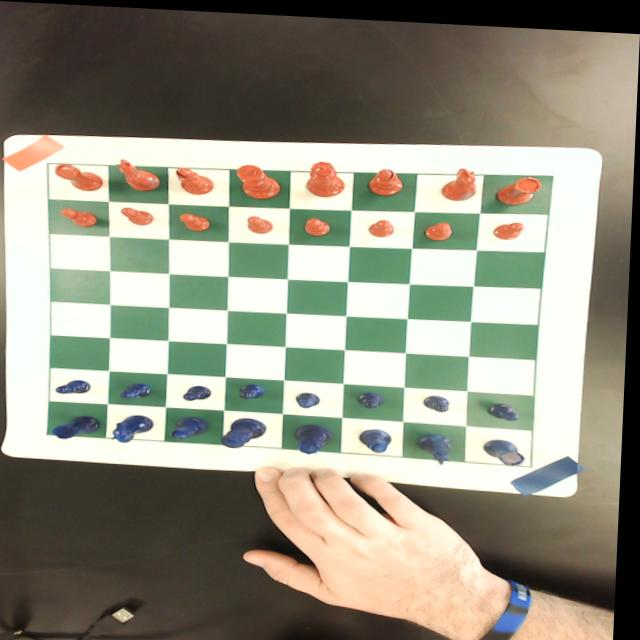B: (174, 413, 214, 439), (361, 423, 396, 449)
K: (225, 414, 271, 446)
N: (114, 411, 159, 443), (420, 428, 457, 459)
P: (57, 377, 94, 395), (122, 379, 157, 398), (490, 394, 523, 414), (241, 379, 270, 398), (426, 389, 455, 408), (185, 382, 216, 399), (358, 387, 387, 404), (298, 388, 324, 405)
Q: (296, 420, 336, 451)
R: (56, 412, 104, 441), (486, 432, 531, 460)
b: (177, 165, 217, 193), (369, 163, 406, 191)
cb: (49, 162, 555, 460)
k: (236, 160, 284, 196)
n: (114, 155, 165, 191), (442, 161, 479, 196)
p: (61, 203, 104, 229), (120, 205, 156, 224), (179, 210, 213, 229), (494, 215, 528, 234), (425, 216, 457, 236), (305, 212, 334, 232), (369, 214, 398, 233), (248, 211, 275, 231)
q: (307, 156, 347, 193)
r: (53, 161, 106, 191), (496, 168, 544, 200)
